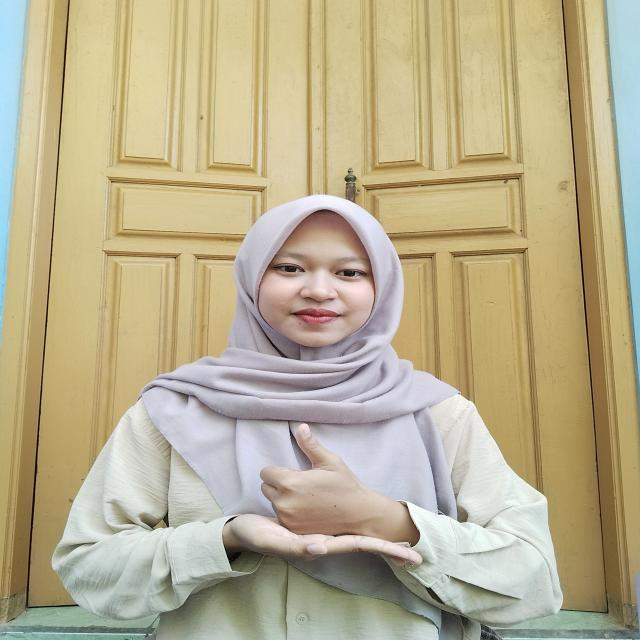cantik: (192, 414, 437, 588)
